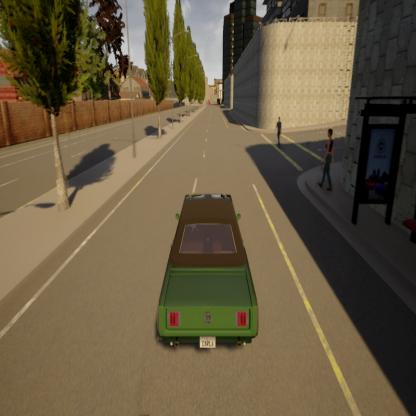Cars: (152, 178, 260, 366)
Pedestrian: (312, 123, 342, 185), (275, 116, 286, 150)
